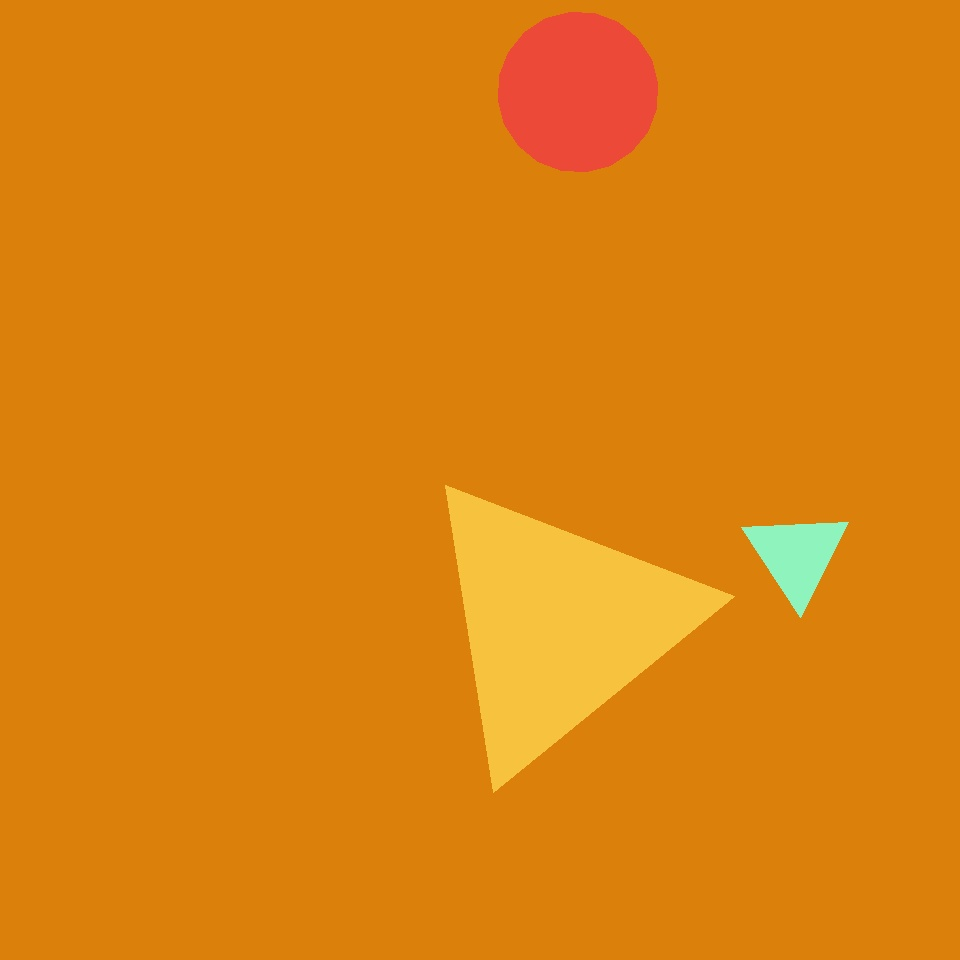circle: (414, 471, 702, 778), (322, 104, 596, 380), (744, 509, 850, 604)
square: (746, 214, 871, 339)
triangle: (498, 13, 657, 172)
